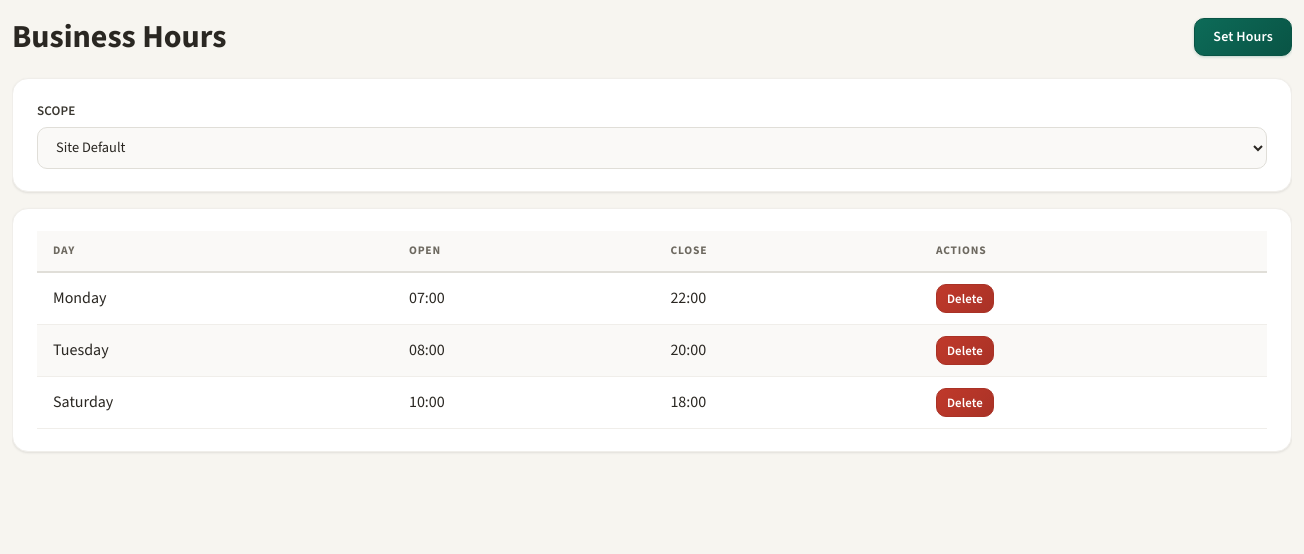
Test case: BusinessHoursPage › Scope filter › shows Room filter when room scope is selected
Select "Room Override" in the dropdown at x=652, y=148, box [37,126,1267,169]
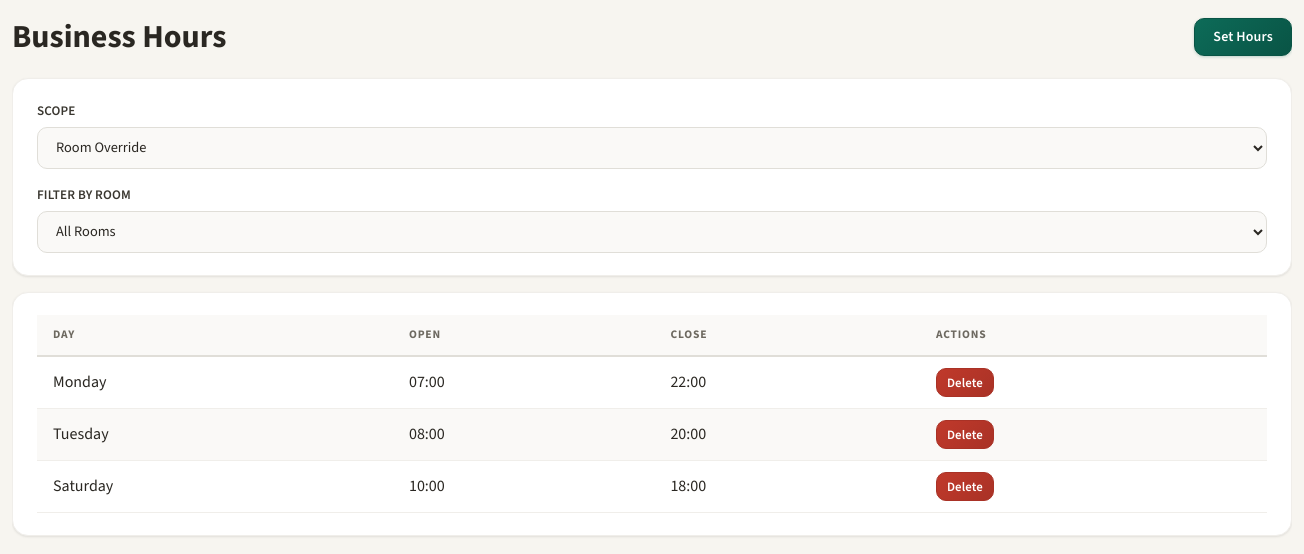
Expected: the text "Filter by Room" is shown, [37,186,131,203]
